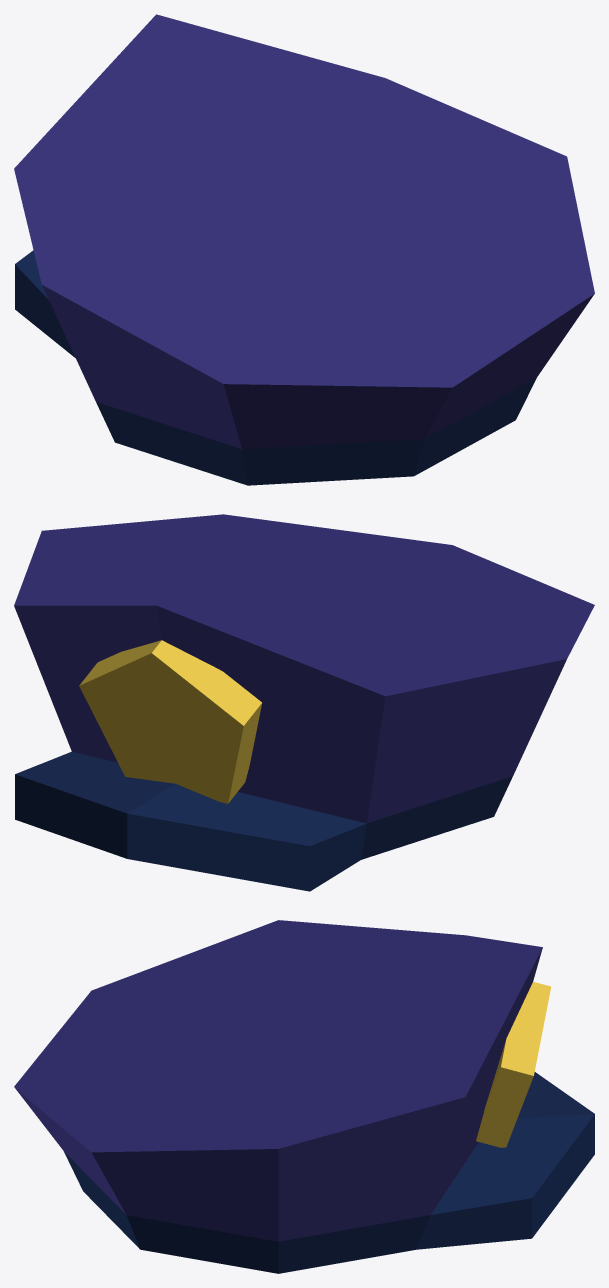
Rendered from police_cap.fbx.
3 views of the same model, one above another, from view 1: azimuth 30°, elevation 25°; view 2: azimuth 150°, elevation 25°; view 3: azimuth 270°, elevation 25° (orthographic). The views are drawn at different scales.
Visible parts, largest first — view 1: police_cap; view 2: police_cap; view 3: police_cap.
Part boxes in pixels (left/top/right/bottom): police_cap: left=14, top=14, right=594, bottom=485; police_cap: left=14, top=514, right=594, bottom=891; police_cap: left=14, top=920, right=594, bottom=1273.
Bounding box in the file's own units: 544 × 271 × 583.
